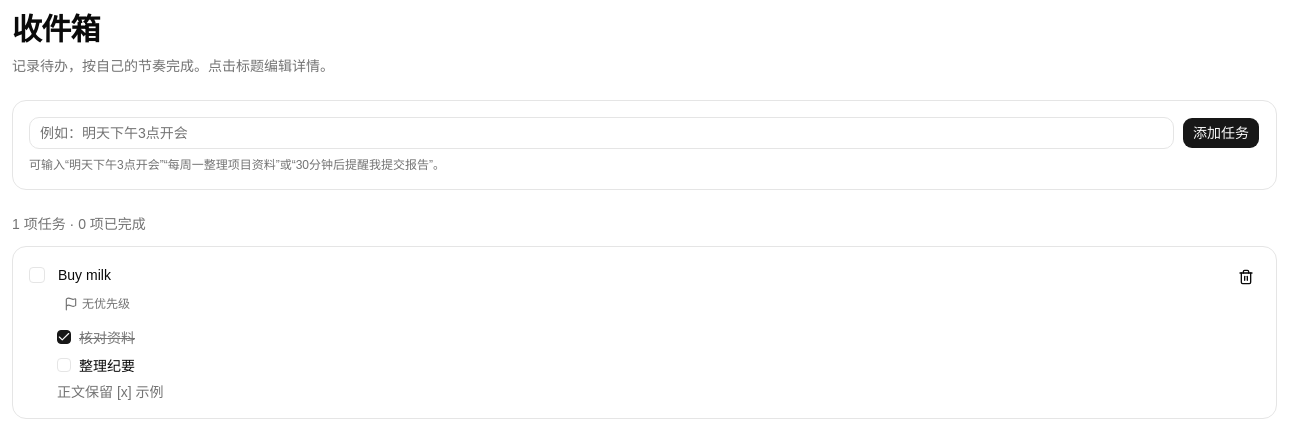
it: renders and toggles real subtask checkboxes without duplicating projected notes
The width and height of the screenshot is (1292, 436).
Later steps or results of the test are not shown.
Expected: the text "正文保留 [x] 示例" is shown, left=57, top=384, right=164, bottom=400
Click the checkbox named "完成子任务：整理纪要".
click(64, 365)  # box left=57, top=358, right=71, bottom=372
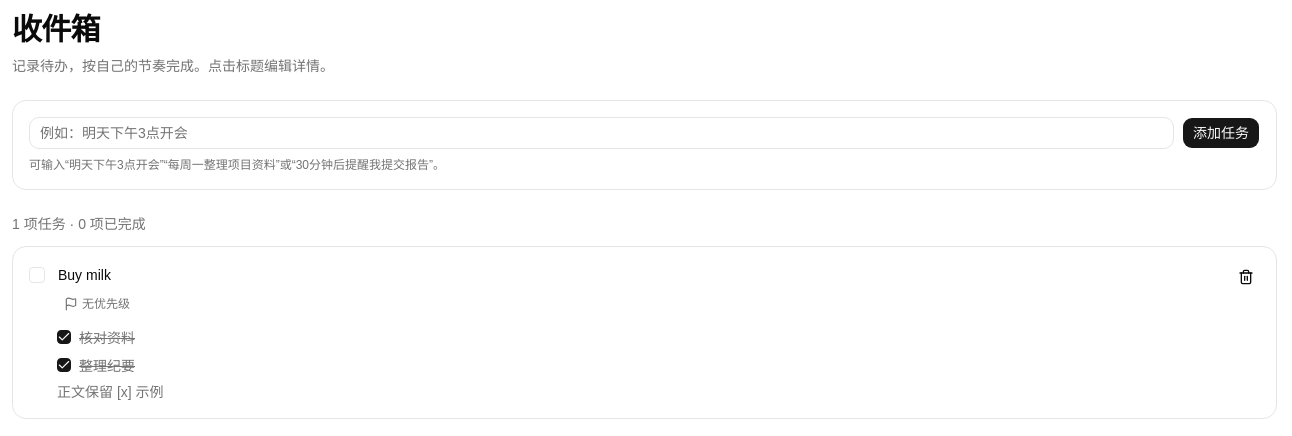
Result: the checkbox named "取消完成子任务：整理纪要" is shown at left=57, top=358, right=71, bottom=372
